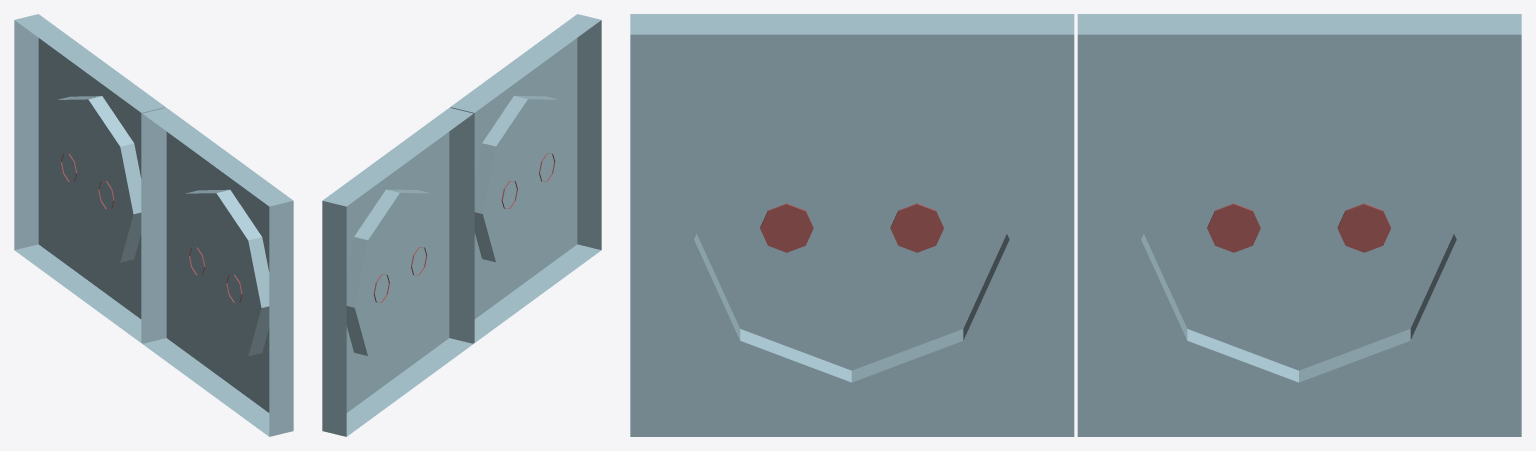
The model's file is Bathroom2_socket.fbx.
3 views of the same model, side by side, from view 1: azimuth 30°, elevation 25°; view 2: azimuth 150°, elevation 25°; view 3: azimuth 270°, elevation 25° (orthographic). The views are drawn at different scales.
Visible parts, largest first — view 1: Bathroom2_socket; view 2: Bathroom2_socket; view 3: Bathroom2_socket.
Part boxes in pixels (left/top/right/bottom): Bathroom2_socket: left=14, top=14, right=293, bottom=436; Bathroom2_socket: left=322, top=14, right=601, bottom=436; Bathroom2_socket: left=630, top=14, right=1521, bottom=436.
Bounding box in the file's own units: 1.49 × 13.53 × 27.17.
